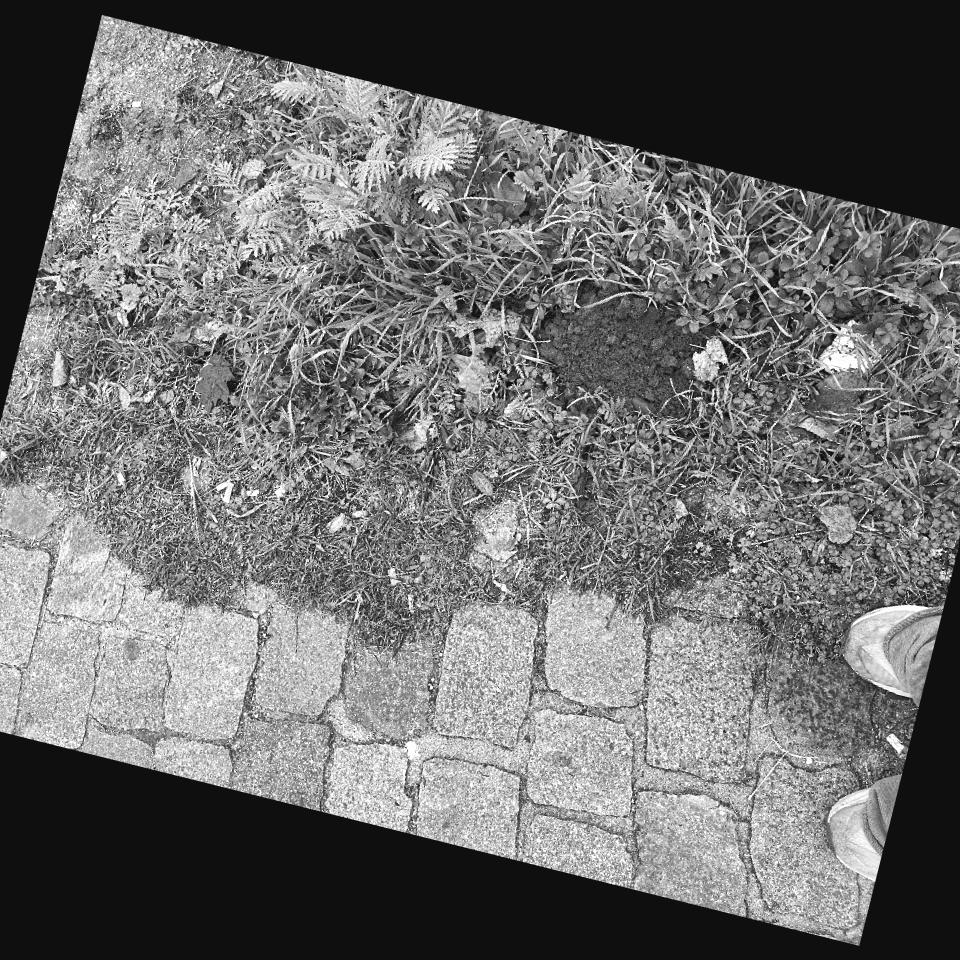weed: (159, 75, 488, 944)
